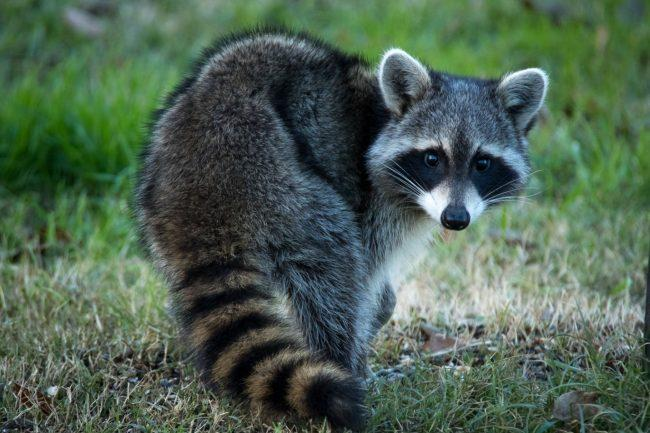raccoon: (135, 28, 550, 420)
